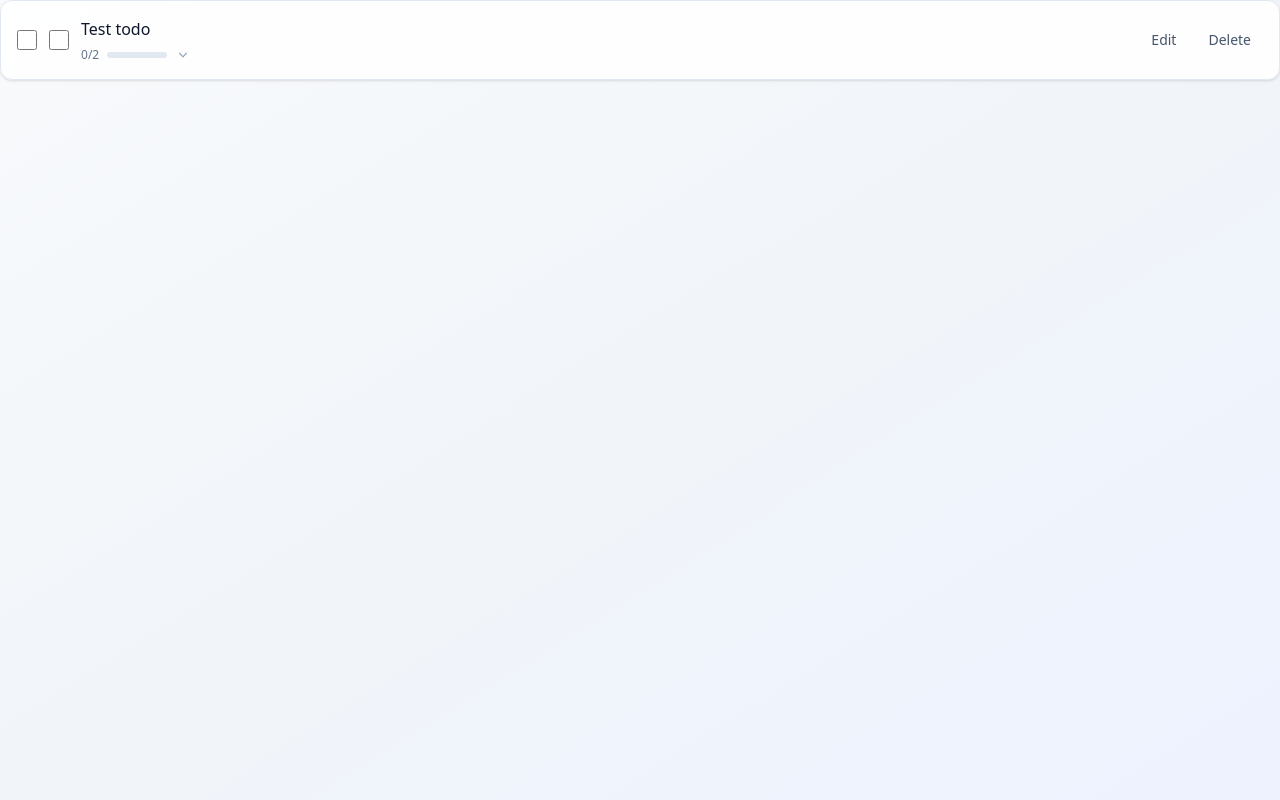
Test case: TodoItem › subtask progress display › clicking progress indicator expands subtask list
# Click the progress indicator
What coordinates should you click on to do the following:
click the button named "subtasks completed"
I would click on:
 (136, 55)
Its box is [81, 47, 191, 63].
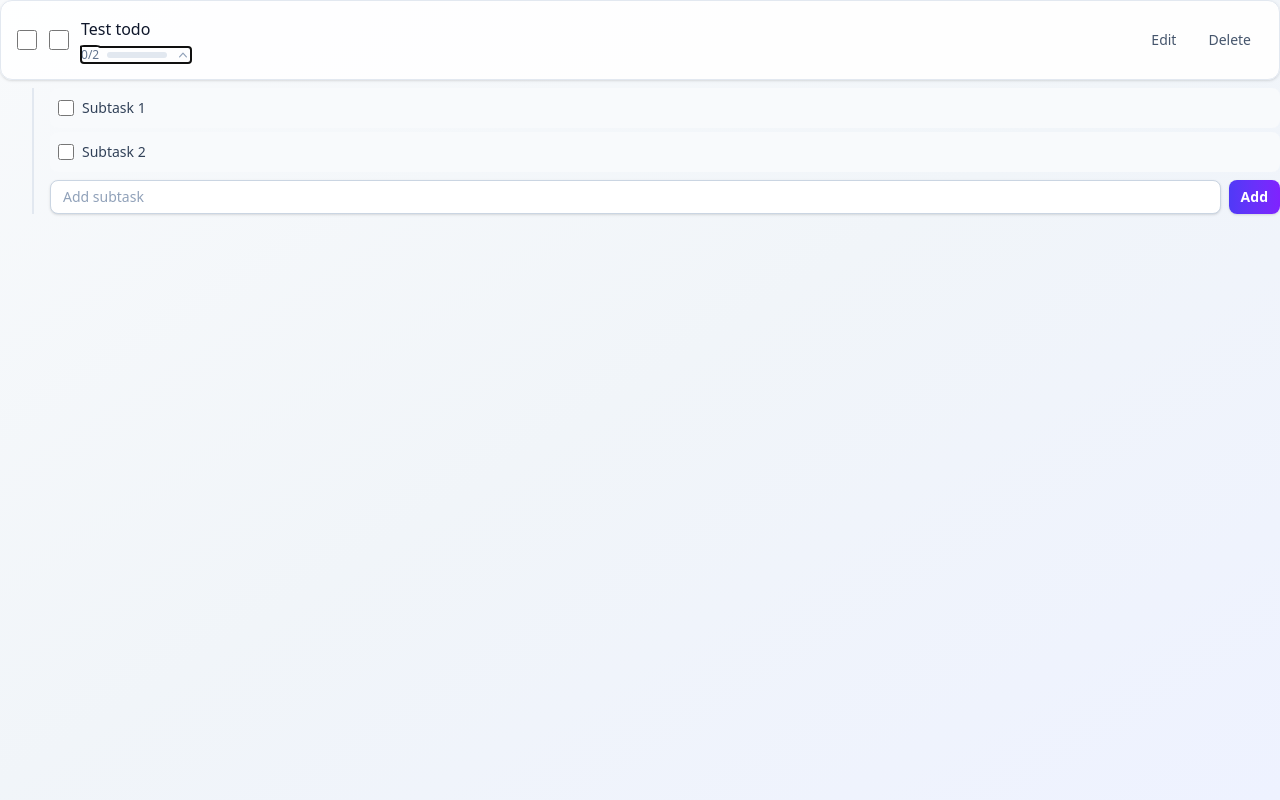
Expected: the list named "Subtasks" is shown, [50, 88, 1279, 172]
Expected: the text "Subtask 1" is shown, [82, 98, 146, 117]
Expected: the text "Subtask 2" is shown, [82, 142, 146, 161]
